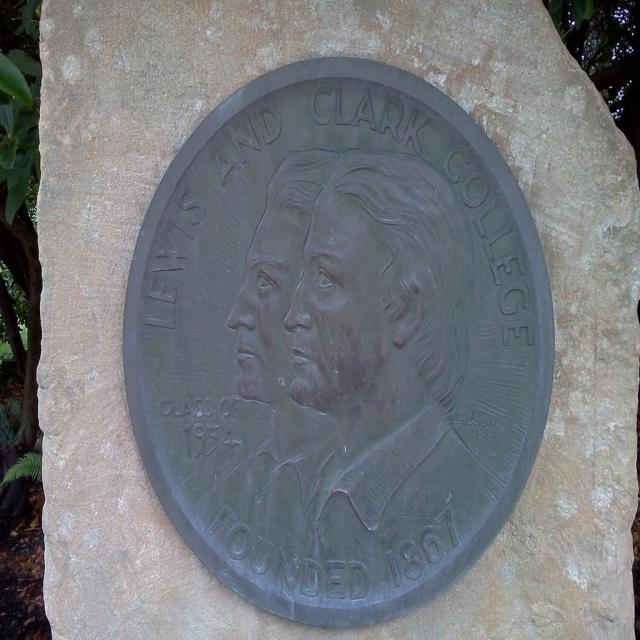Coin: (125, 58, 562, 625)
